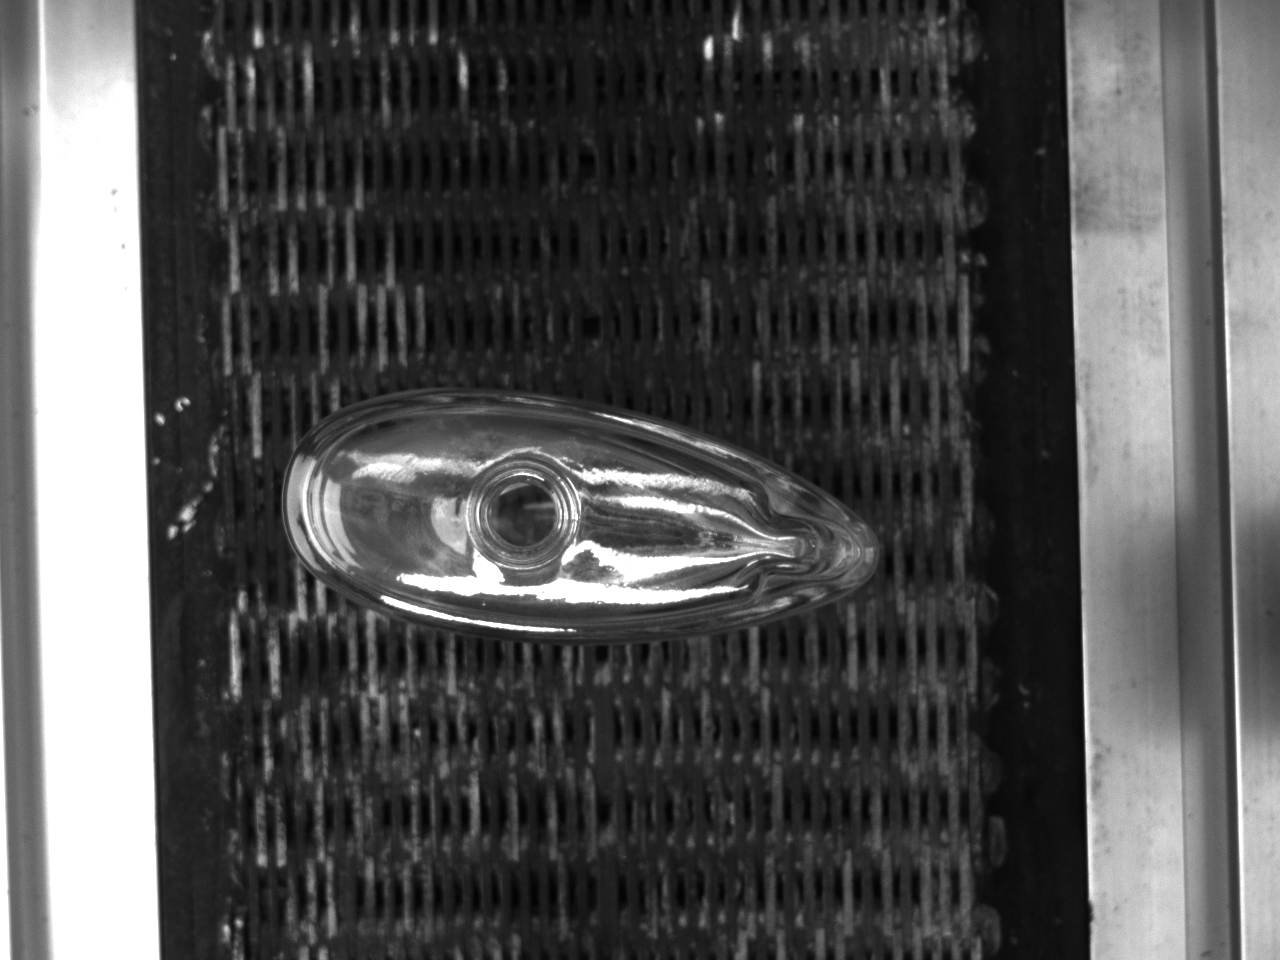bottleneck: (467, 457, 581, 568)
